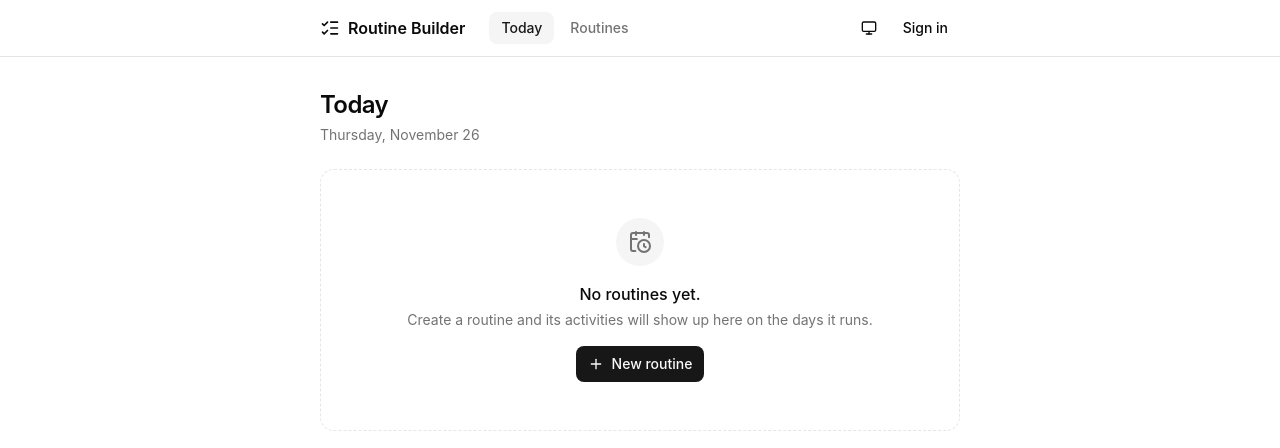
Test: today view › highlights the current page in the header
Expected: the heading "Routine Builder" is shown, [348,16,465,40]
What coordinates should you click on to do the following:
click the link "Routines"
I would click on:
 (600, 28)
Its box is [570,19,629,36].
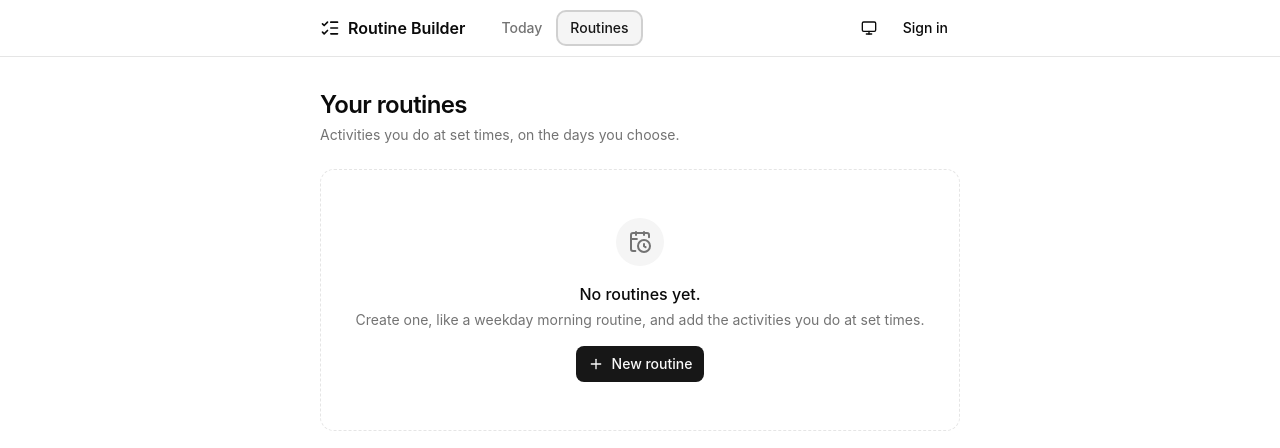
Expected: the heading "Your routines" is shown, [320,90,467,119]
